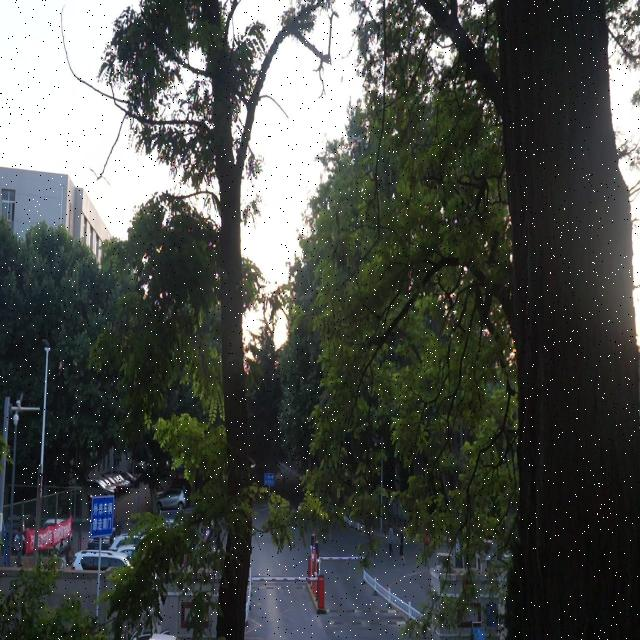UAV: (349, 137, 362, 149)
